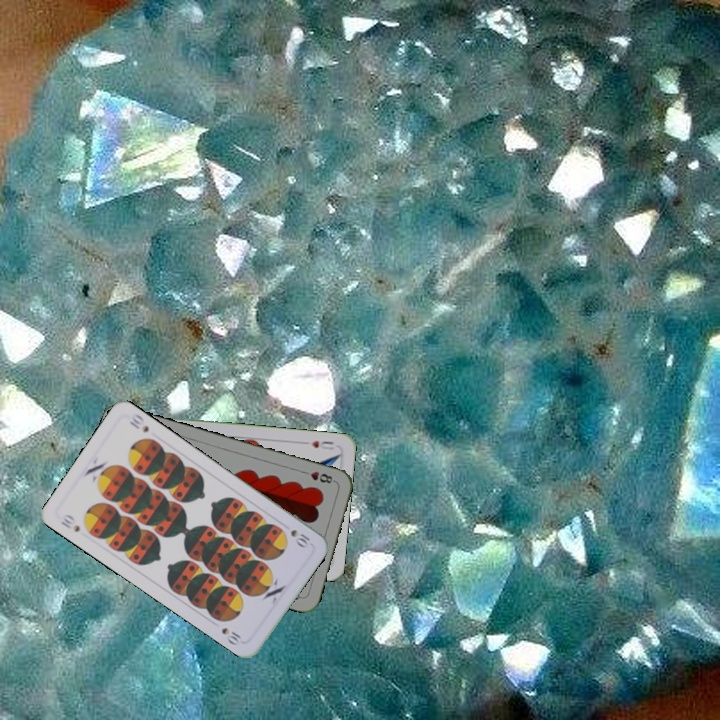H8: (298, 467, 338, 486)
HU: (307, 437, 336, 452)
S10: (56, 510, 83, 535), (286, 525, 313, 549)
